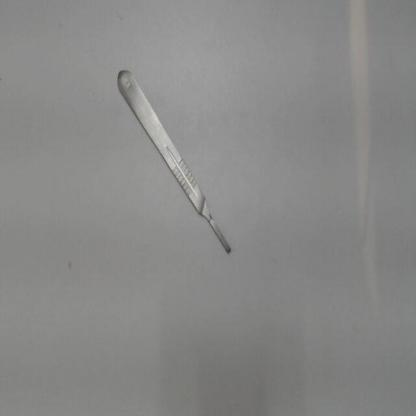No.4 BP Handle: (107, 51, 244, 273)
